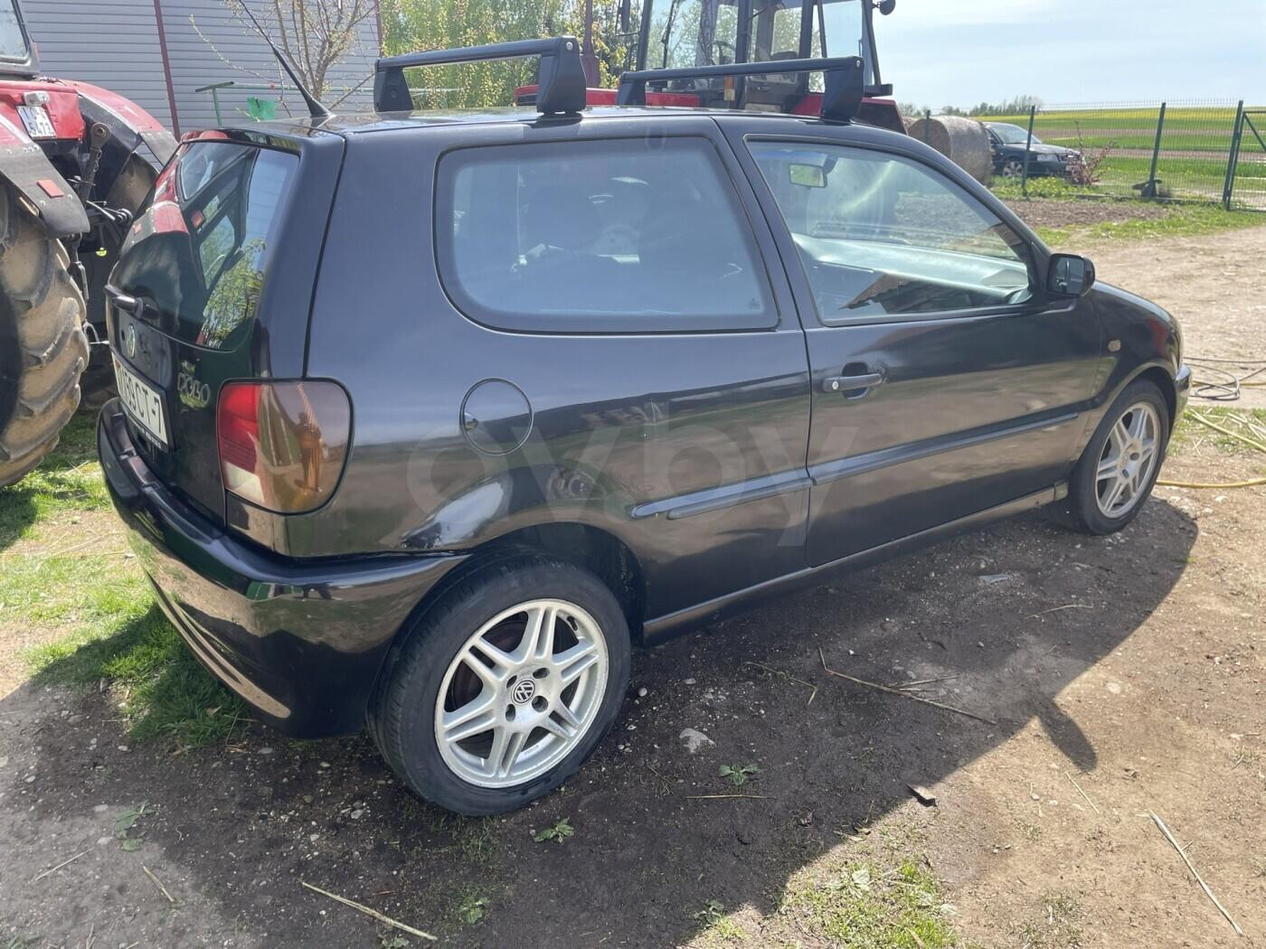Polo_1994-2002: (98, 98, 1189, 831)
